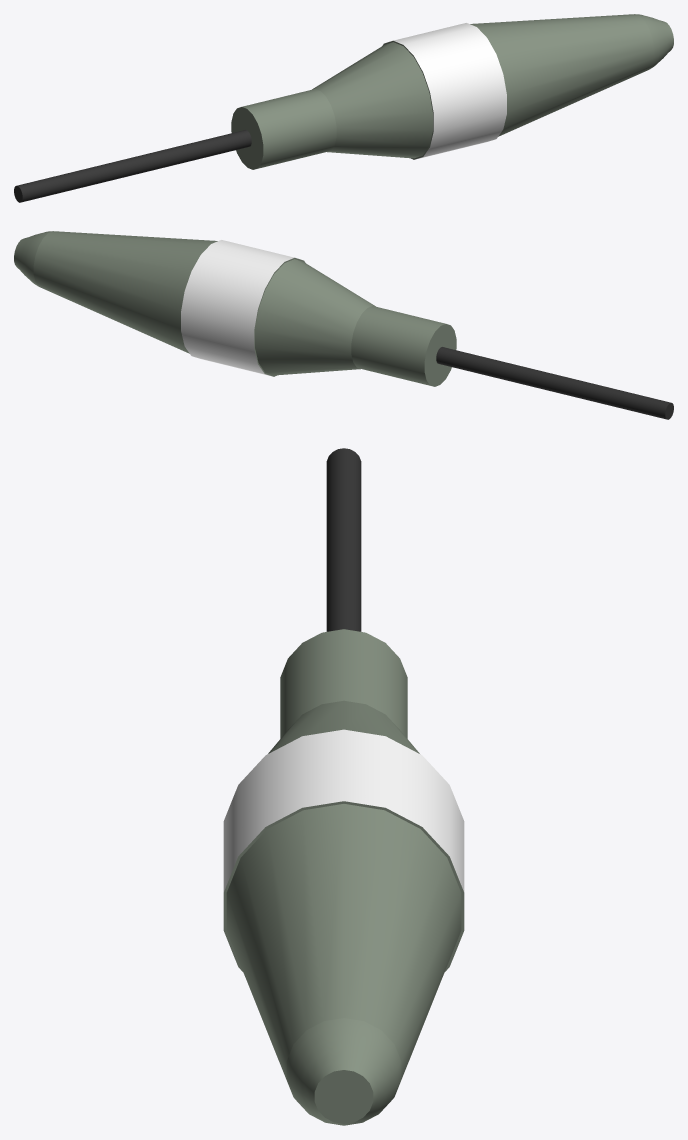
The model's file is Projectile.FBX.
The picture shows the model from 3 angles, top to bottom: view 1: azimuth 30°, elevation 25°; view 2: azimuth 150°, elevation 25°; view 3: azimuth 270°, elevation 25°; orthographic projection. The views are drawn at different scales.
Visible parts, largest first — view 1: Cylinder001; view 2: Cylinder001; view 3: Cylinder001.
Boxes of the visible parts, left/top/right/bottom form: Cylinder001: left=14, top=14, right=673, bottom=202; Cylinder001: left=14, top=231, right=673, bottom=419; Cylinder001: left=223, top=448, right=464, bottom=1125.
Size of the model in its own units: 81.52 by 13.29 by 13.09.
